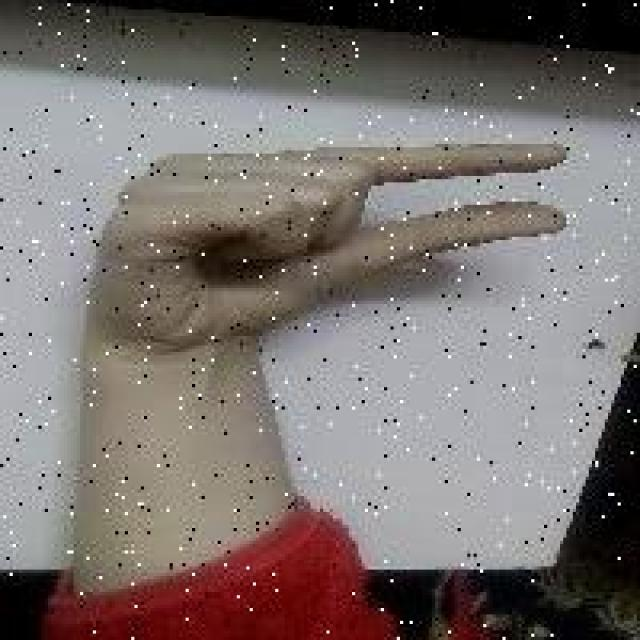G: (82, 136, 578, 331)
